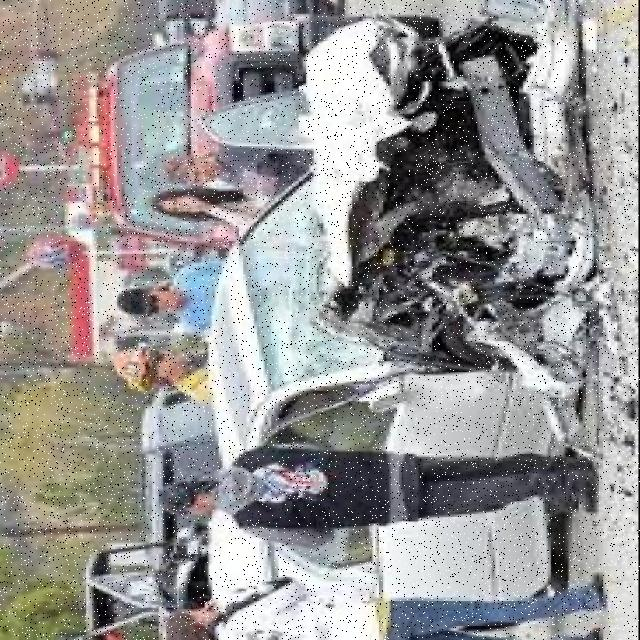damage: (302, 0, 600, 376)
